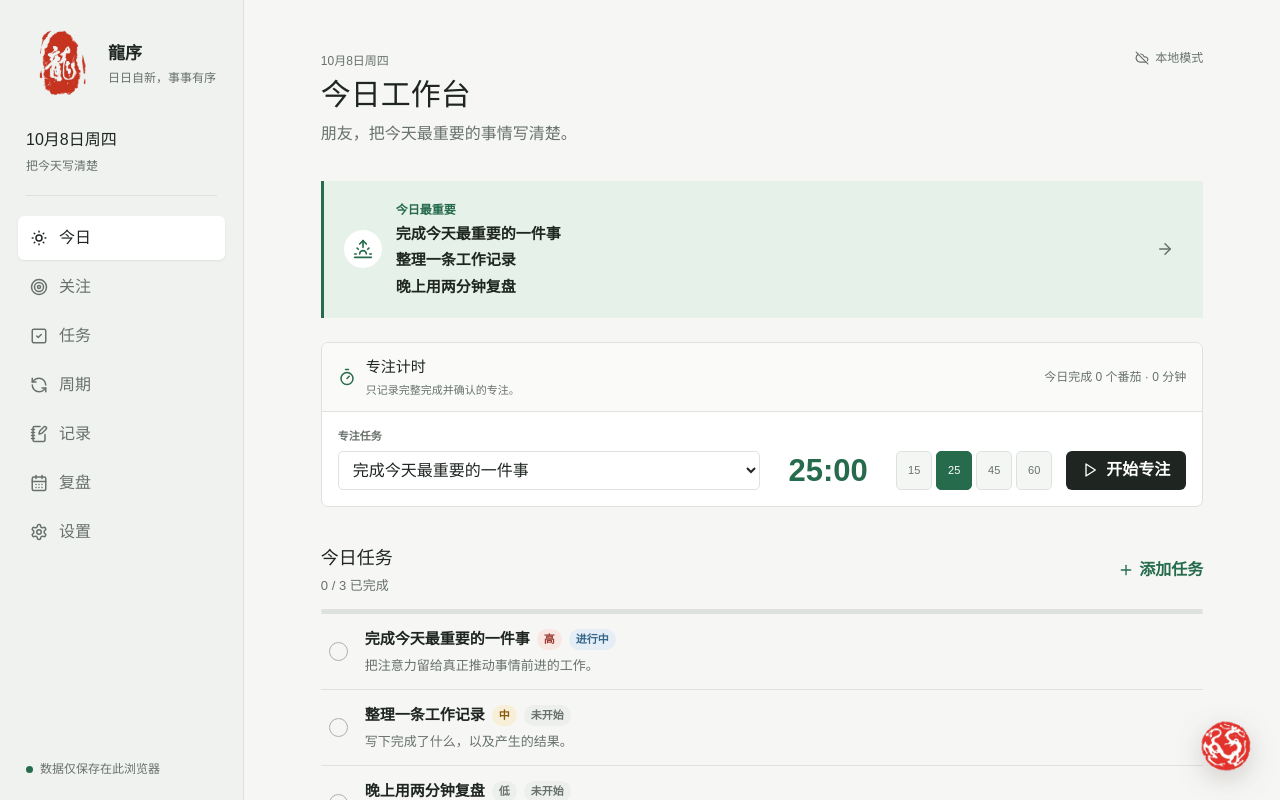
Test case: workbench navigation › creates and completes a task
Check: the heading "今日工作台" is shown, box [321,78,471,111]
Step 1. Click the button "任务" → [122, 336], box [18,314,225,358]
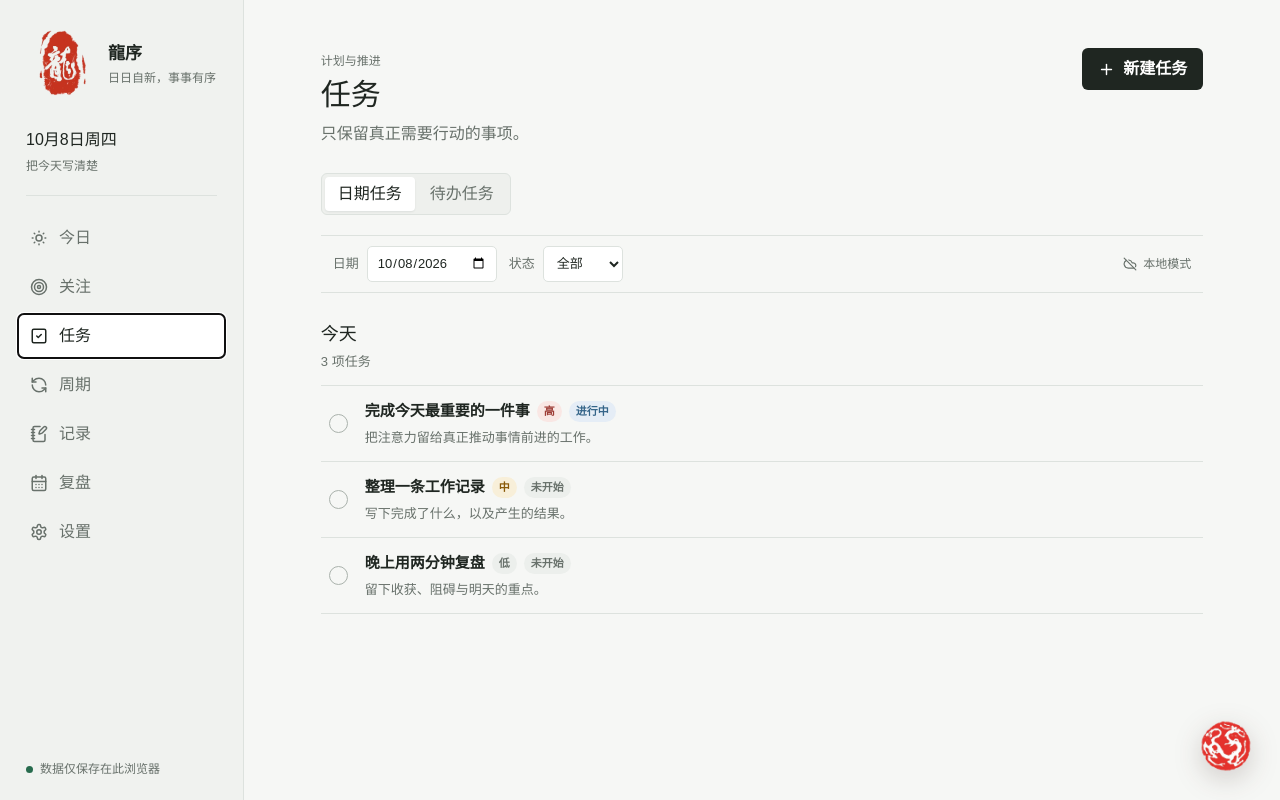
Step 2. Click the button "新建任务" → [1143, 69], box [1082,48,1203,90]
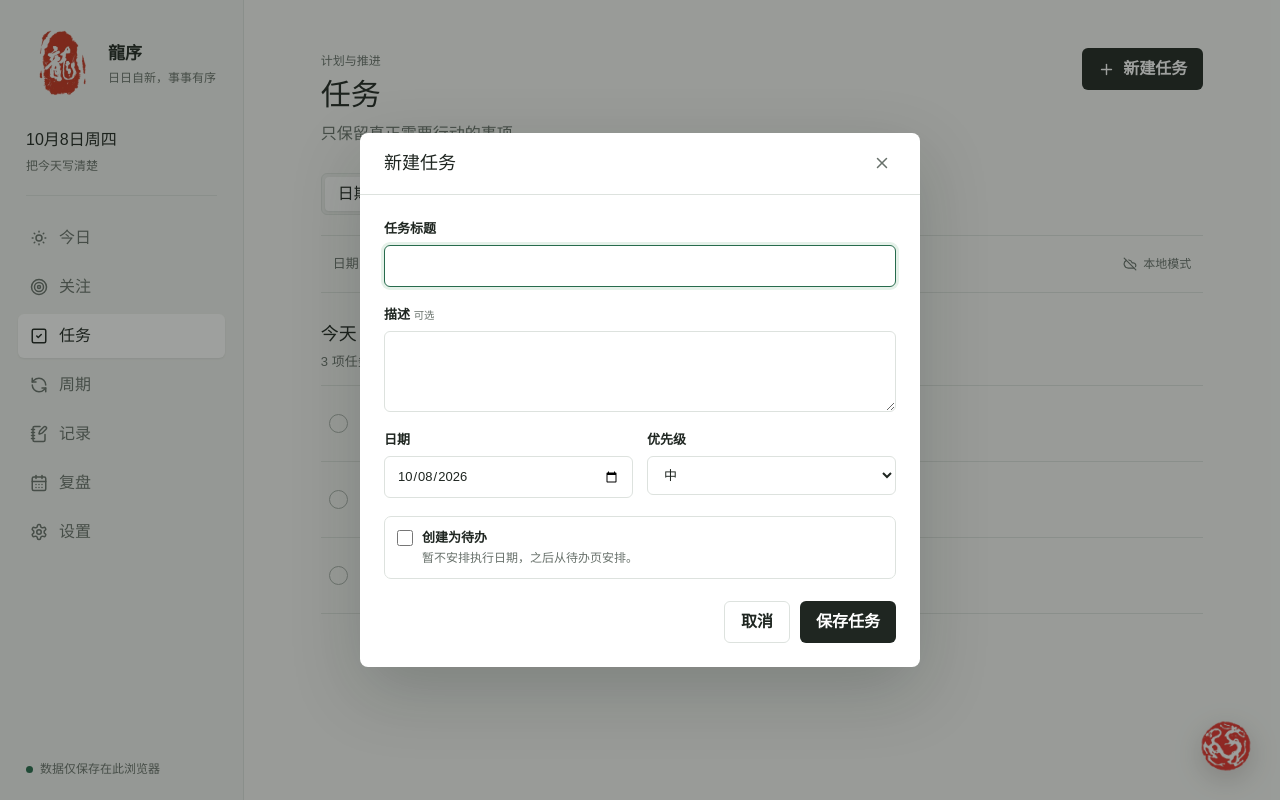
Step 3. Type "完成产品原型" into the field labelled "任务标题" → [640, 266], box [384,245,896,287]
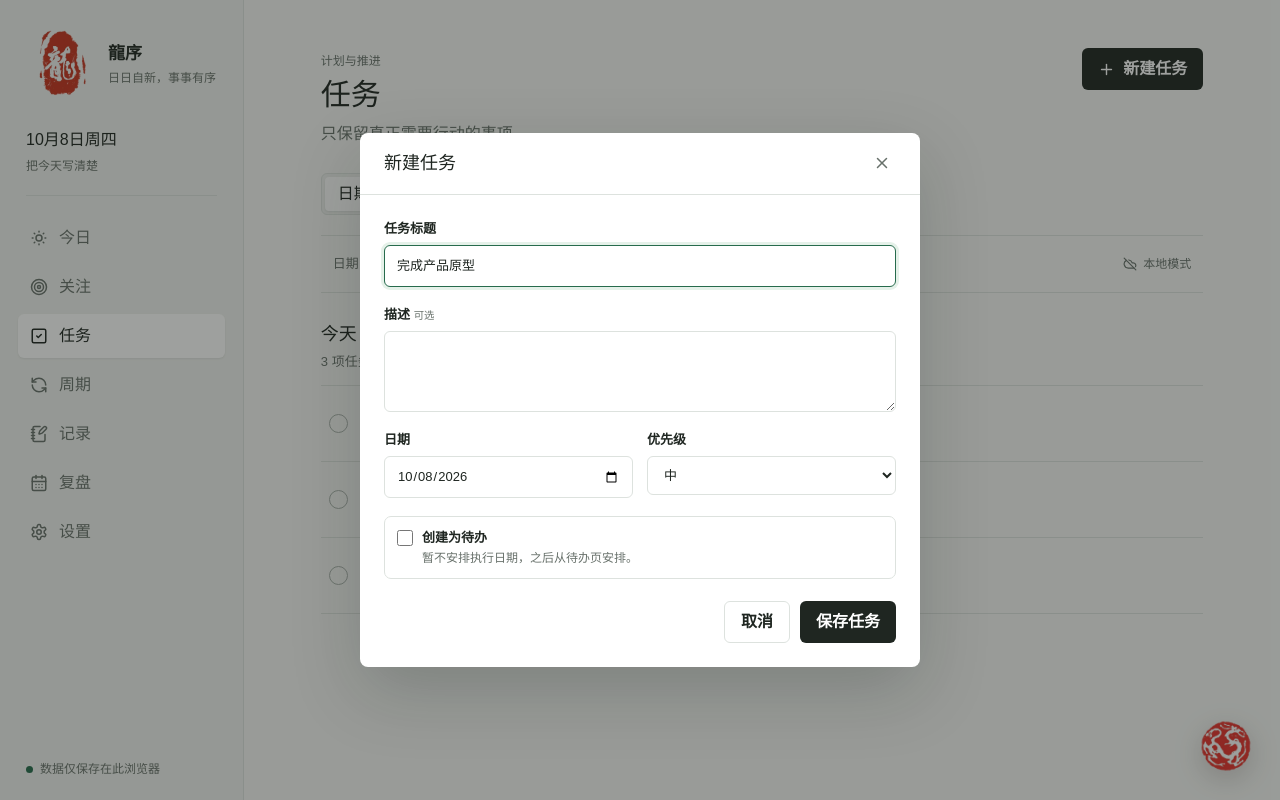
Step 4. Click the button "保存任务" → [848, 622], box [800,601,896,643]
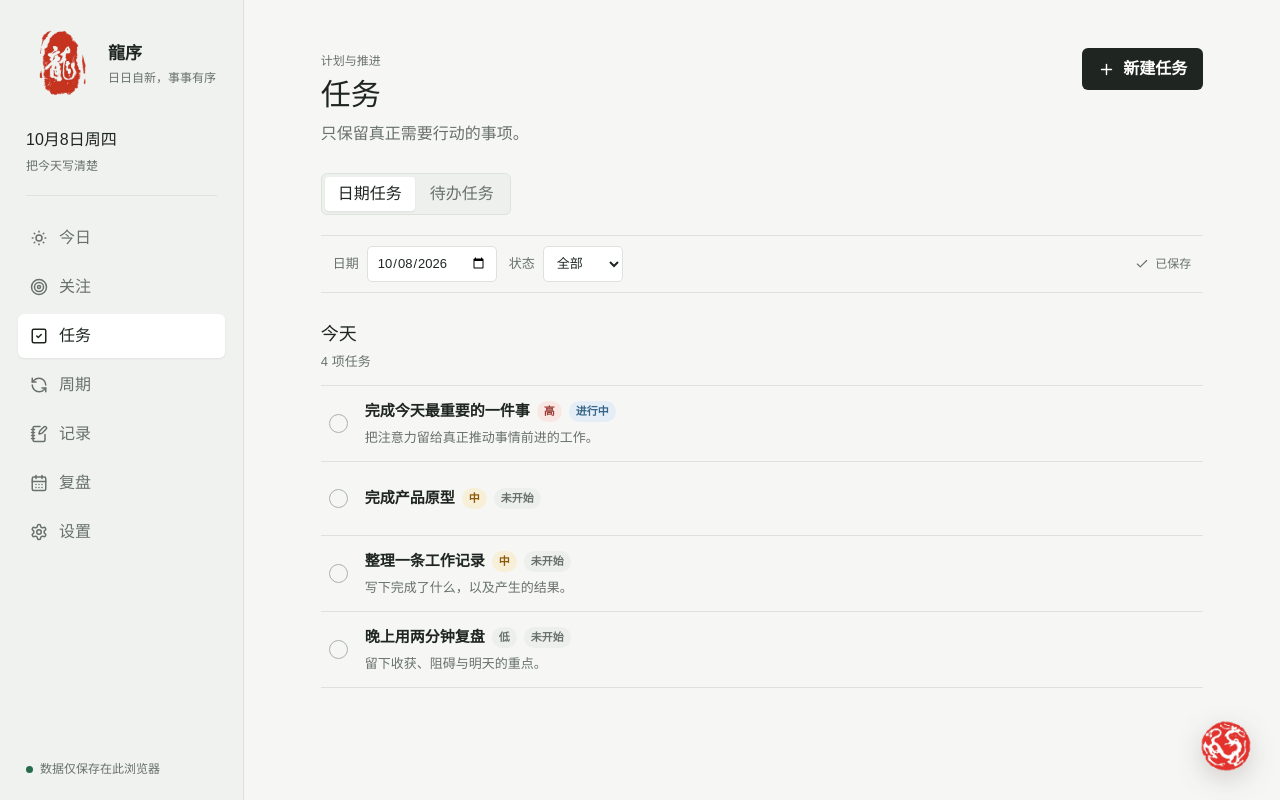
Check: the heading "完成产品原型" is shown, box [365,487,455,510]
Step 5. Click the checkbox named "完成产品原型" → [339, 499], box [329,489,348,508]
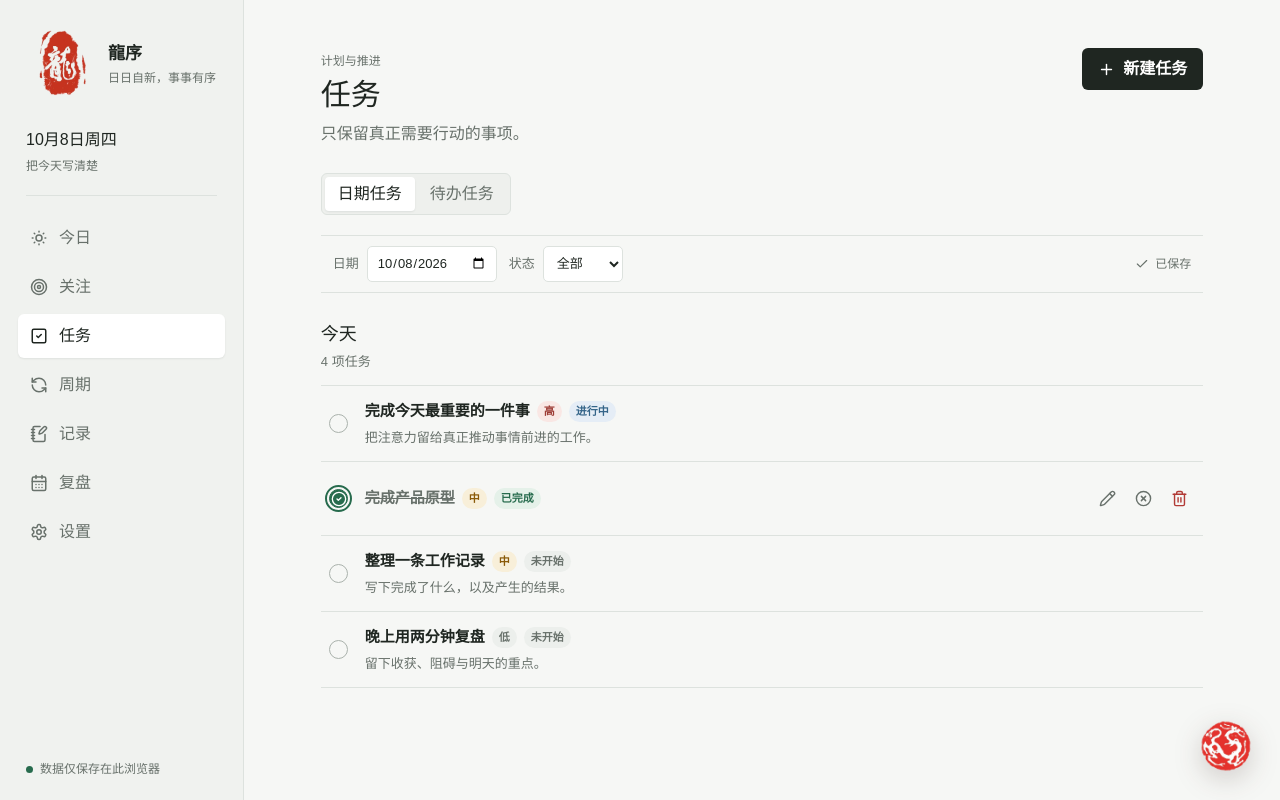
Check: the text "完成产品原型" is shown, box [365,489,455,506]
Check: the text "已完成" is shown, box [494,488,541,509]
